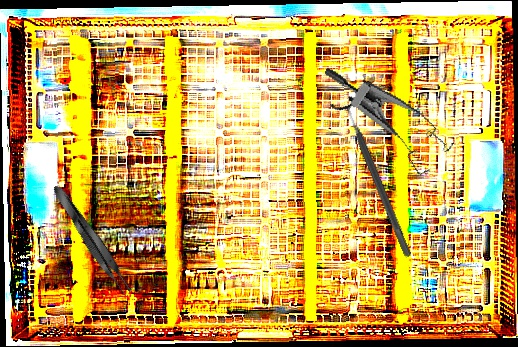Fixation Ring: (328, 93, 422, 262)
Speculum: (303, 66, 464, 182)
Tissue Forceps: (48, 181, 136, 299)
